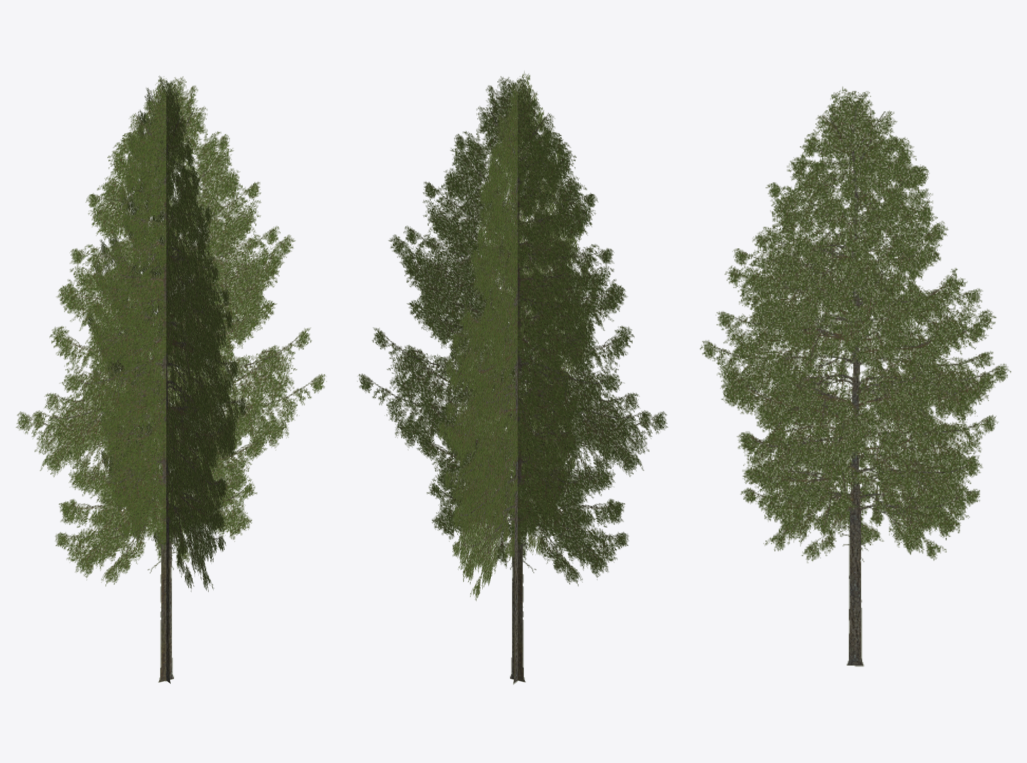
The model's file is LarixDecidua.glb.
The picture shows the model from 3 angles, left to right: view 1: azimuth 30°, elevation 25°; view 2: azimuth 150°, elevation 25°; view 3: azimuth 270°, elevation 25°; orthographic projection. The views are drawn at different scales.
Parts seen in each view (by area): view 1: mesh__mat_billboard_10; view 2: mesh__mat_billboard_10; view 3: mesh__mat_billboard_10.
Boxes of the visible parts, left/top/right/bottom form: mesh__mat_billboard_10: left=16, top=76, right=325, bottom=683; mesh__mat_billboard_10: left=358, top=71, right=667, bottom=684; mesh__mat_billboard_10: left=700, top=87, right=1011, bottom=666.
Bounding box in the file's own units: 9.91 × 18.54 × 8.99.
1 material, 1 textured.
